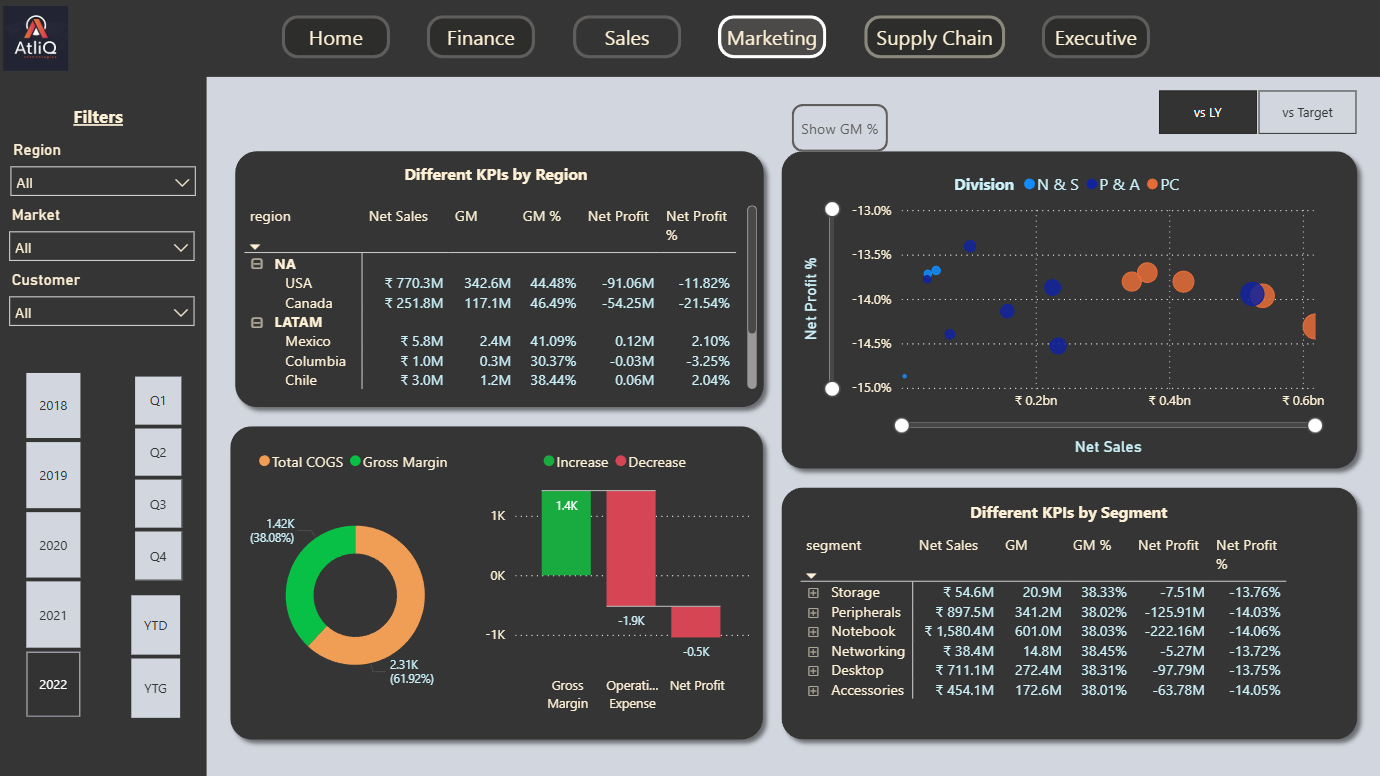

The dashboard page shown, as its layout file describes it:
{"tool":"powerbi","page":{"name":"Marketing View","canvas":[1280,720],"ordinal":3},"visuals":[{"type":"shape","box":[715.4,131.5,550.1,311.3],"z":0},{"type":"scatterChart","title":"NP % chart","fields":{"Category":["gdb041 dim_product.segment","gdb041 dim_product.category","gdb041 dim_product.product"],"X":["Key Measures.Net Sales $"],"Size":["Key Measures.Net Sales $"],"Series":["gdb041 dim_product.division"],"Y":["Key Measures.Net Profit %"]},"box":[738.5,149.8,504.2,275.8],"z":0,"group":"g1"},{"type":"shape","box":[0,0,1280,72.4],"z":1000},{"type":"actionButton","title":"GM % Button ","box":[733.6,96.8,89,44.1],"z":1000,"group":"g1"},{"type":"shape","box":[0,0,193,720.2],"z":2000},{"type":"slicer","fields":{"Values":["gdb041 dim_market.market"]},"box":[0,185.8,191.8,60.3],"z":3000},{"type":"slicer","fields":{"Values":["gdb041 dim_customer.customer"]},"box":[0,246.1,191.8,59.1],"z":4000},{"type":"slicer","fields":{"Values":["gdb041 dim_market.region"]},"box":[1.2,125.5,191.8,60.3],"z":5000},{"type":"image","box":[0,0,70,72.4],"z":6000},{"type":"slicer","fields":{"Values":["fiscal_year.Fiscal Year"]},"box":[0,339,100.1,331.8],"z":7000},{"type":"slicer","fields":{"Values":["dim_date.Quaters"]},"box":[100.1,341.4,92.9,201.5],"z":8000},{"type":"slicer","fields":{"Values":["dim_date.ytd_ytg"]},"box":[96.5,544.1,95.3,126.7],"z":9000},{"type":"textbox","box":[65.1,92.9,65.1,32.6],"z":10000},{"type":"actionButton","box":[261.8,14.7,100.1,39.8],"z":11000},{"type":"actionButton","box":[396.4,14.7,100.1,39.8],"z":12000},{"type":"actionButton","box":[531.1,14.7,100.1,39.8],"z":13000},{"type":"actionButton","box":[665.7,14.7,100.1,39.8],"z":14000},{"type":"actionButton","box":[800.4,14.7,130.3,39.8],"z":15000},{"type":"actionButton","box":[965.2,14.7,100.1,39.8],"z":16000},{"type":"slicer","fields":{"Values":["NS BM.Benchmark "]},"box":[1047.1,77.2,232.8,54.3],"z":17000},{"type":"shape","box":[205.1,386.1,510.3,307.6],"z":18000},{"type":"shape","box":[715.4,442.8,550.1,250.9],"z":19000},{"type":"shape","box":[209.8,131.6,506.4,254.5],"z":20000},{"type":"textbox","box":[312.5,147.2,300.4,31.4],"z":21000},{"type":"donutChart","fields":{"Y":["Key Measures.p&L values"],"Category":["P&L rows.Description"]},"box":[222,406.6,217.2,259.4],"z":22000},{"type":"waterfallChart","fields":{"Category":["P&L rows.Description"],"Y":["Key Measures.p&L values"]},"box":[445.2,406.6,254.6,259.4],"z":23000},{"type":"pivotTable","fields":{"Values":["Key Measures.Net Sales $","Key Measures.GM $","Key Measures.GM %","Key Measures.Net Profit","Key Measures.Net Profit %"],"Rows":["gdb041 dim_market.region","gdb041 dim_market.market"]},"box":[223.2,185.8,483.8,179.8],"z":24000},{"type":"pivotTable","fields":{"Rows":["gdb041 dim_product.segment","gdb041 dim_product.category","gdb041 dim_product.product"],"Values":["Key Measures.Net Sales $","Key Measures.GM $","Key Measures.GM %","Key Measures.Net Profit","Key Measures.Net Profit %"]},"box":[737,489.3,507.1,188.3],"z":25000},{"type":"textbox","box":[840.8,458.2,301,31.1],"z":26000},{"type":"group","id":"g1","title":"NP % Group ","box":[733.6,96.8,509,328.8],"z":27000}]}

Visuals, with their boxes in screenshot pixels (x1, y1, x2, y2), scaled from the page's 1280x720 canvas onto the 1380x776 screenshot:
shape: [x1=771, y1=142, x2=1364, y2=477]
"NP % chart" scatterChart: [x1=796, y1=161, x2=1340, y2=459]
shape: [x1=0, y1=0, x2=1379, y2=78]
"GM % Button " actionButton: [x1=791, y1=104, x2=887, y2=152]
shape: [x1=0, y1=0, x2=208, y2=775]
slicer - gdb041 dim_market.market: [x1=0, y1=200, x2=207, y2=265]
slicer - gdb041 dim_customer.customer: [x1=0, y1=265, x2=207, y2=329]
slicer - gdb041 dim_market.region: [x1=1, y1=135, x2=208, y2=200]
image: [x1=0, y1=0, x2=75, y2=78]
slicer - fiscal_year.Fiscal Year: [x1=0, y1=365, x2=108, y2=723]
slicer - dim_date.Quaters: [x1=108, y1=368, x2=208, y2=585]
slicer - dim_date.ytd_ytg: [x1=104, y1=586, x2=207, y2=723]
textbox: [x1=70, y1=100, x2=140, y2=135]
actionButton: [x1=282, y1=16, x2=390, y2=59]
actionButton: [x1=427, y1=16, x2=535, y2=59]
actionButton: [x1=573, y1=16, x2=681, y2=59]
actionButton: [x1=718, y1=16, x2=826, y2=59]
actionButton: [x1=863, y1=16, x2=1003, y2=59]
actionButton: [x1=1041, y1=16, x2=1149, y2=59]
slicer - NS BM.Benchmark : [x1=1129, y1=83, x2=1379, y2=142]
shape: [x1=221, y1=416, x2=771, y2=748]
shape: [x1=771, y1=477, x2=1364, y2=748]
shape: [x1=226, y1=142, x2=772, y2=416]
textbox: [x1=337, y1=159, x2=661, y2=192]
donutChart - Key Measures.p&L values x P&L rows.Description: [x1=239, y1=438, x2=474, y2=718]
waterfallChart - P&L rows.Description x Key Measures.p&L values: [x1=480, y1=438, x2=754, y2=718]
pivotTable - Key Measures.Net Sales $ x Key Measures.GM $: [x1=241, y1=200, x2=762, y2=394]
pivotTable - gdb041 dim_product.segment x gdb041 dim_product.category: [x1=795, y1=527, x2=1341, y2=730]
textbox: [x1=906, y1=494, x2=1231, y2=527]
"NP % Group " group: [x1=791, y1=104, x2=1340, y2=459]
